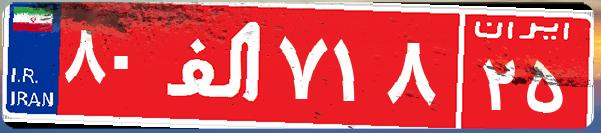0: (110, 28, 158, 105)
1: (330, 28, 385, 110)
2: (475, 38, 525, 113)
5: (525, 38, 570, 115)
7: (273, 28, 330, 110)
8: (385, 28, 445, 110), (57, 26, 110, 107)
الف: (158, 15, 273, 115)
